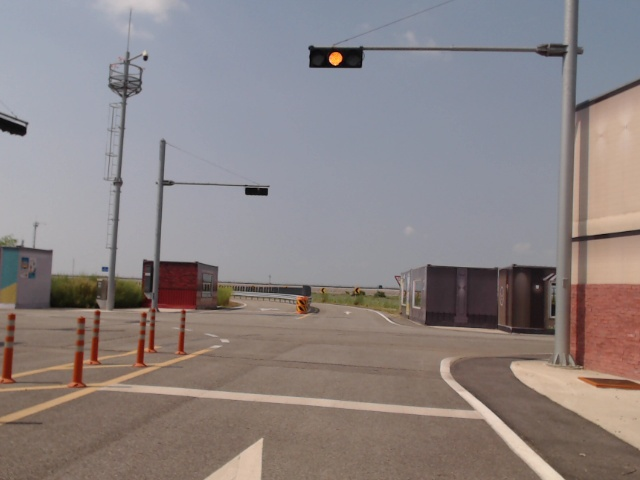orange_3: (310, 47, 360, 69)
